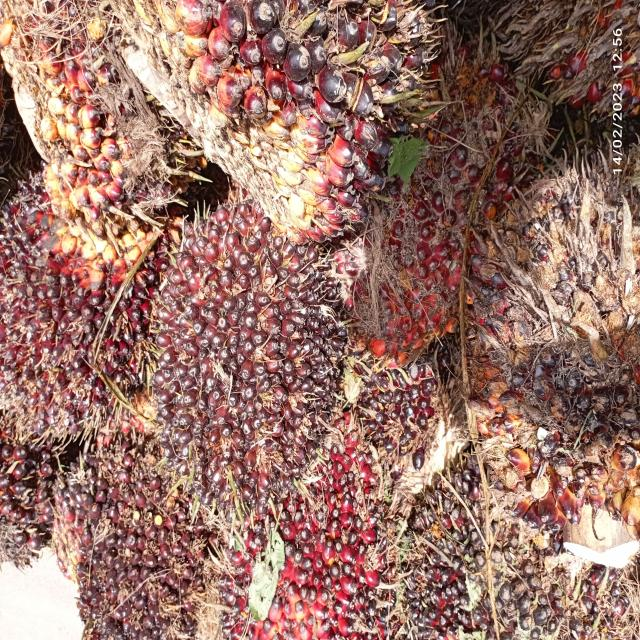fraksi 1: (137, 174, 368, 545), (0, 168, 169, 480), (217, 403, 426, 640)
